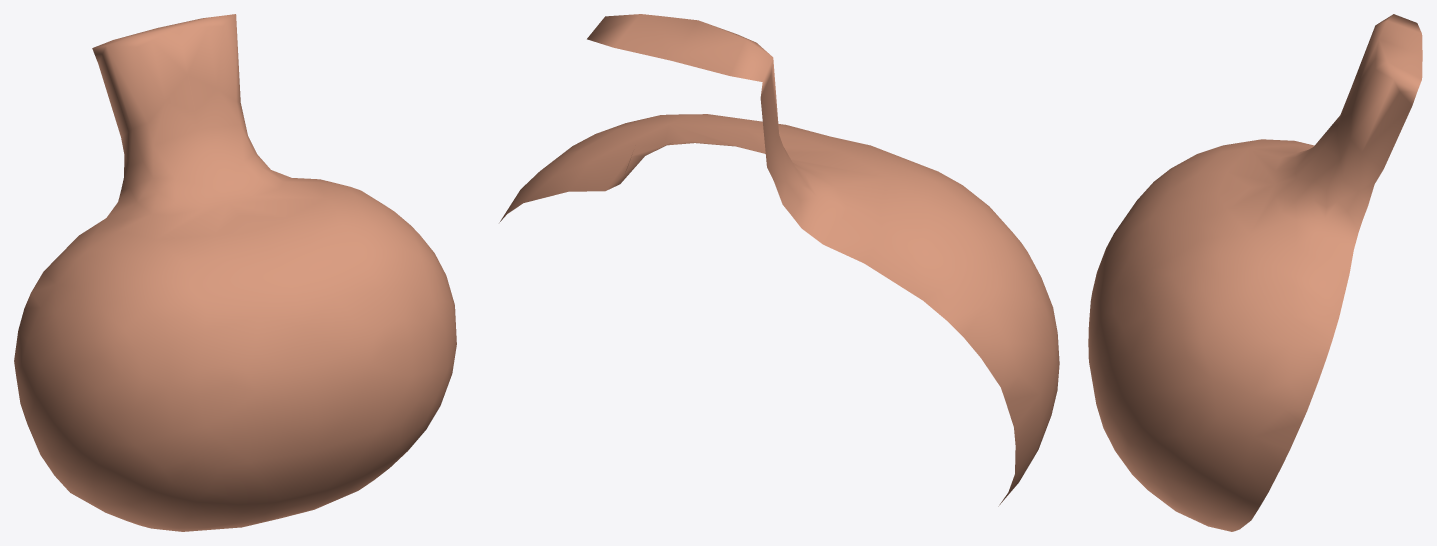
File: adenohypophysis.glb
The picture shows the model from 3 angles, left to right: view 1: azimuth 30°, elevation 25°; view 2: azimuth 150°, elevation 25°; view 3: azimuth 270°, elevation 25°; orthographic projection. The views are drawn at different scales.
Parts seen in each view (by area): view 1: Adenohypophysis; view 2: Adenohypophysis; view 3: Adenohypophysis.
Boxes of the visible parts, bbox=[...] form: Adenohypophysis: bbox=[14, 14, 456, 531]; Adenohypophysis: bbox=[499, 14, 1059, 506]; Adenohypophysis: bbox=[1088, 14, 1422, 531].
Bounding box in the file's own units: 0.0119 × 0.0121 × 0.00811.
